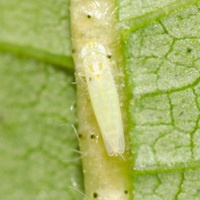insect: (80, 41, 124, 155)
